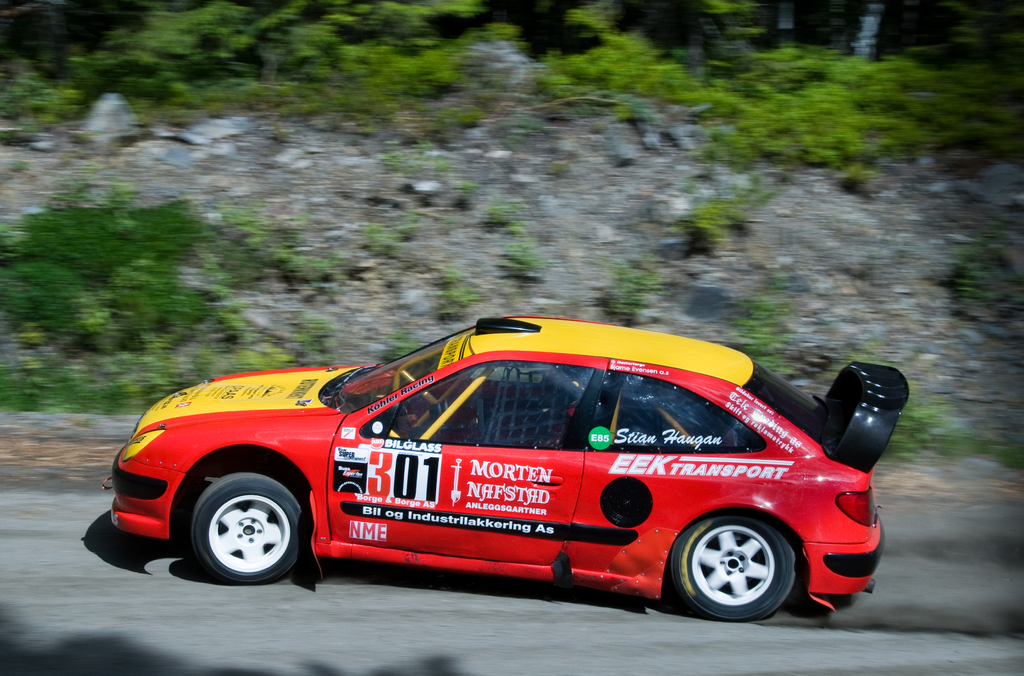mobil: (101, 309, 891, 676)
